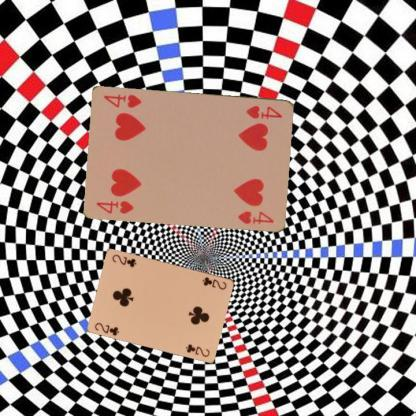2c: (92, 320, 121, 337), (200, 274, 228, 290)
4h: (94, 197, 135, 215), (243, 103, 284, 120)
